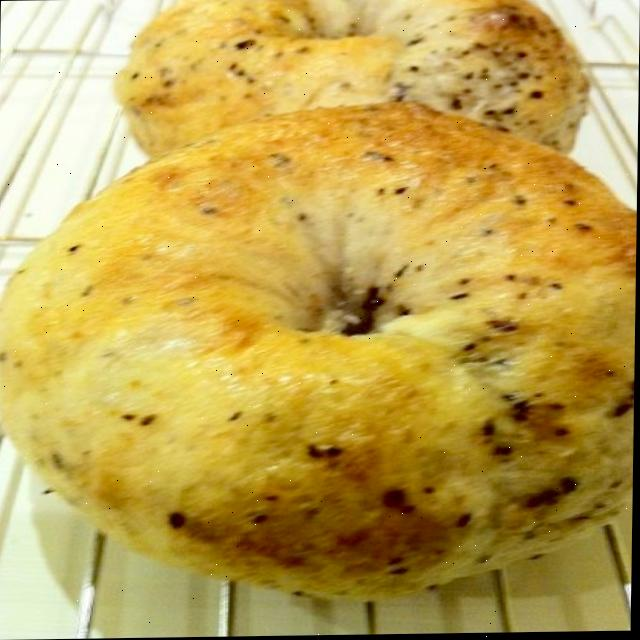面包点心: (11, 29, 640, 597)
